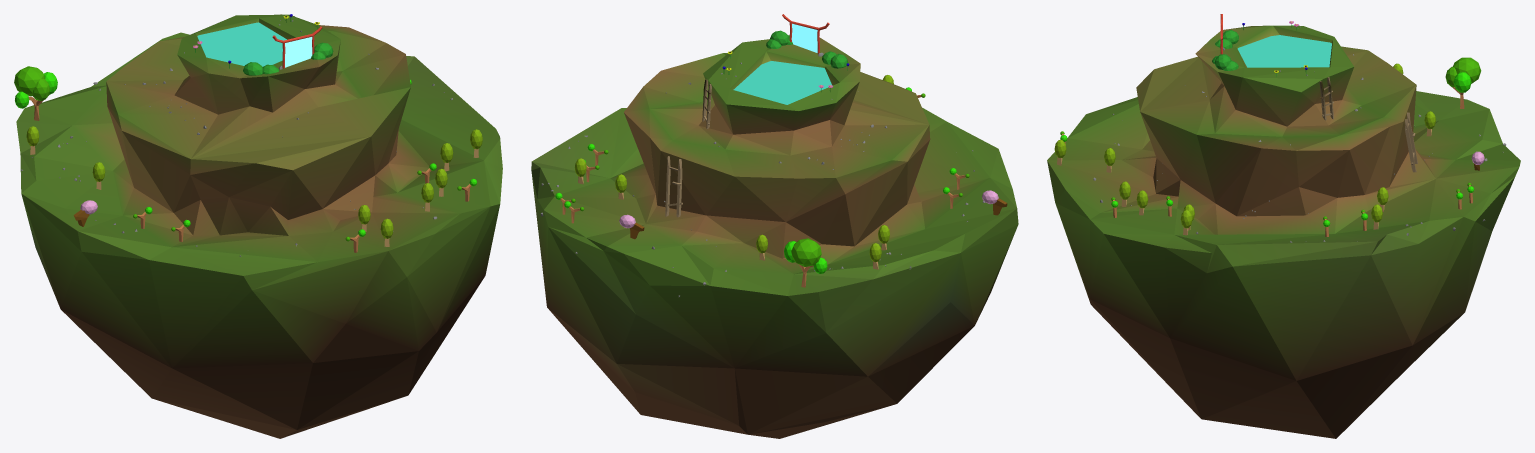
3 views of the same model, side by side, from view 1: azimuth 30°, elevation 25°; view 2: azimuth 150°, elevation 25°; view 3: azimuth 270°, elevation 25° (orthographic). The views are drawn at different scales.
Parts seen in each view (by area): view 1: Island.008, Water.008, Tree1 - 2.050, Magical Portal.008; view 2: Island.008, Water.008, Tree1 - 2.050, Bottom Ladder.008, Magical Portal.008; view 3: Island.008, Water.008, Tree1 - 2.050.
Boxes of the visible parts, x1,y1,x2,y2 form: Island.008: (16,14,502,438); Water.008: (197,22,286,66); Tree1 - 2.050: (14,66,57,120); Magical Portal.008: (285,37,312,67); Island.008: (531,37,1018,438); Water.008: (733,61,832,104); Tree1 - 2.050: (784,238,827,287); Bottom Ladder.008: (665,156,682,217); Magical Portal.008: (791,23,817,52); Island.008: (1047,25,1520,438); Water.008: (1237,35,1331,67); Tree1 - 2.050: (1445,57,1481,108).
Bounding box in the file's own units: 41.96 × 39.87 × 43.73.
